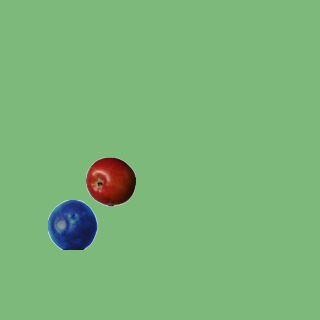Apple Braeburn: (85, 156, 135, 206)
Huckleberry: (47, 199, 97, 249)
